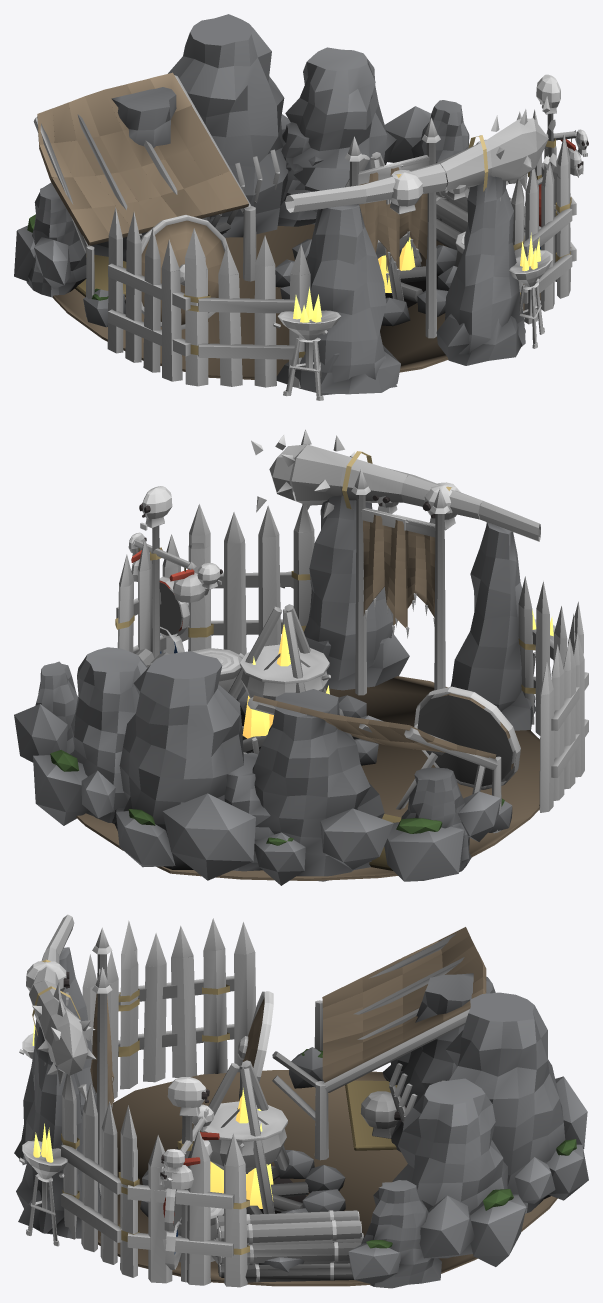
Rendered from gigantes-camp-l3.glb.
3 views of the same model, one above another, from view 1: azimuth 30°, elevation 25°; view 2: azimuth 150°, elevation 25°; view 3: azimuth 270°, elevation 25° (orthographic). The views are drawn at different scales.
Parts seen in each view (by area): view 1: gigantes-camp-l3; view 2: gigantes-camp-l3; view 3: gigantes-camp-l3.
Part boxes in pixels (x1,y1,x2,y2): gigantes-camp-l3: [14, 14, 588, 400]; gigantes-camp-l3: [14, 429, 588, 885]; gigantes-camp-l3: [14, 914, 588, 1288].
Size of the model in its own units: 1.57 by 0.8192 by 1.66.
